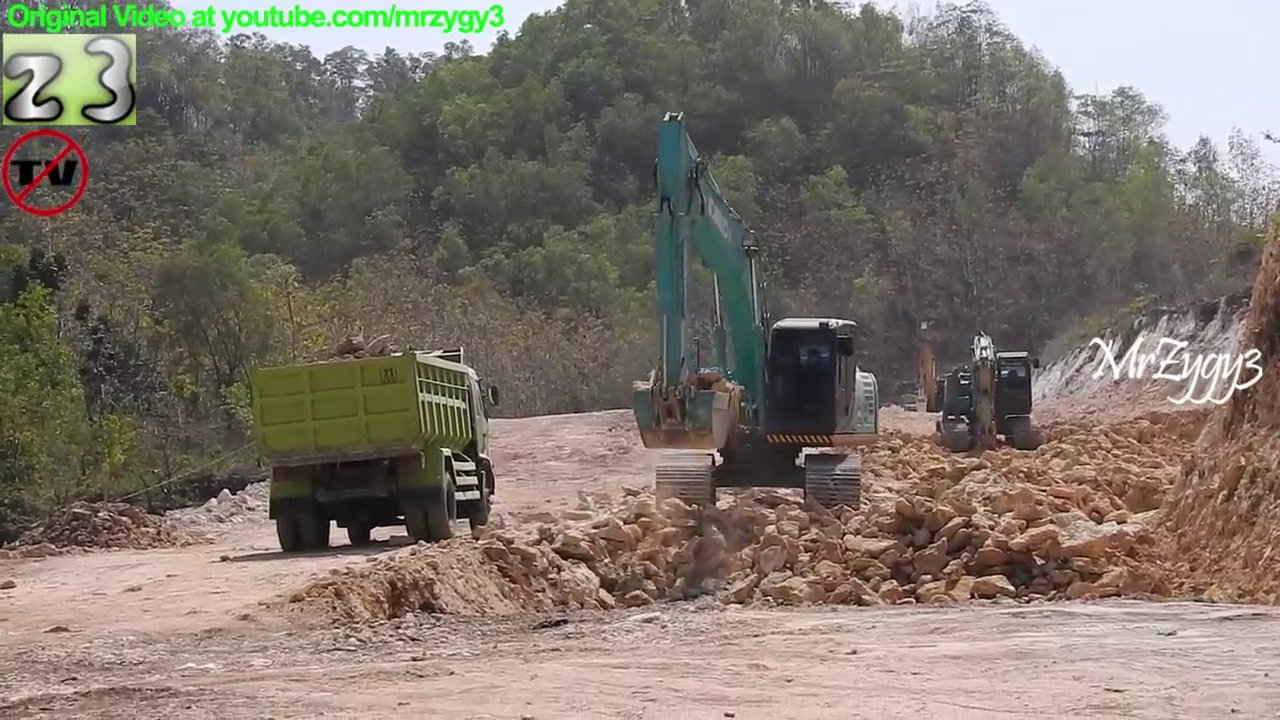excavator: (623, 100, 888, 523), (895, 316, 965, 423)
excavator breaker: (246, 338, 506, 557), (936, 328, 1046, 462)
